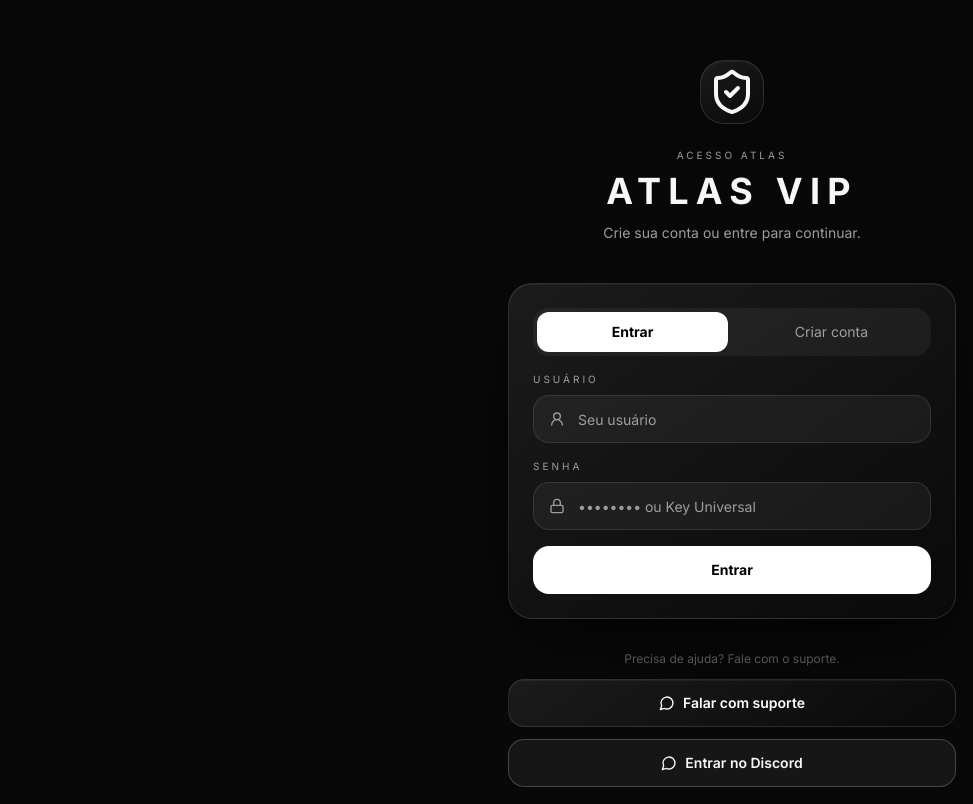
Test: acessos de usuário e ADM › usuário e senha normais usam o login da conta
In the field labelled "Usuário": point(732, 419) [533, 395, 931, 443], type "cliente"
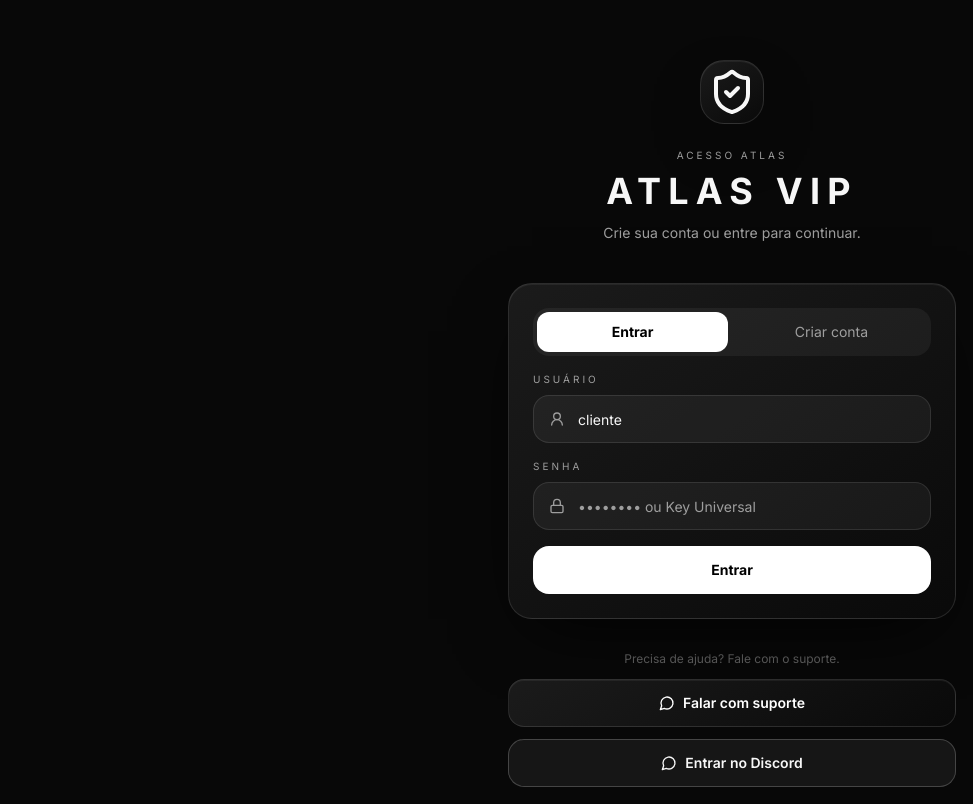
In the password field labelled "Senha": point(732, 506) [533, 482, 931, 530], type "Senha123"
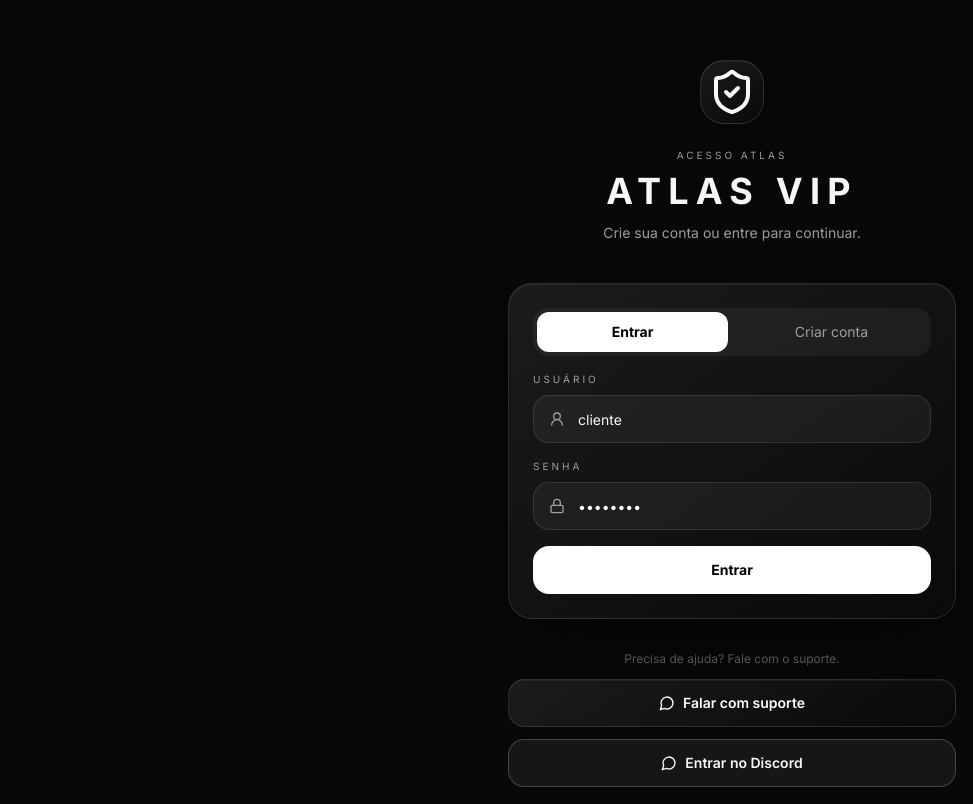
Submit the form labelled "Senha", box [508, 283, 956, 619]
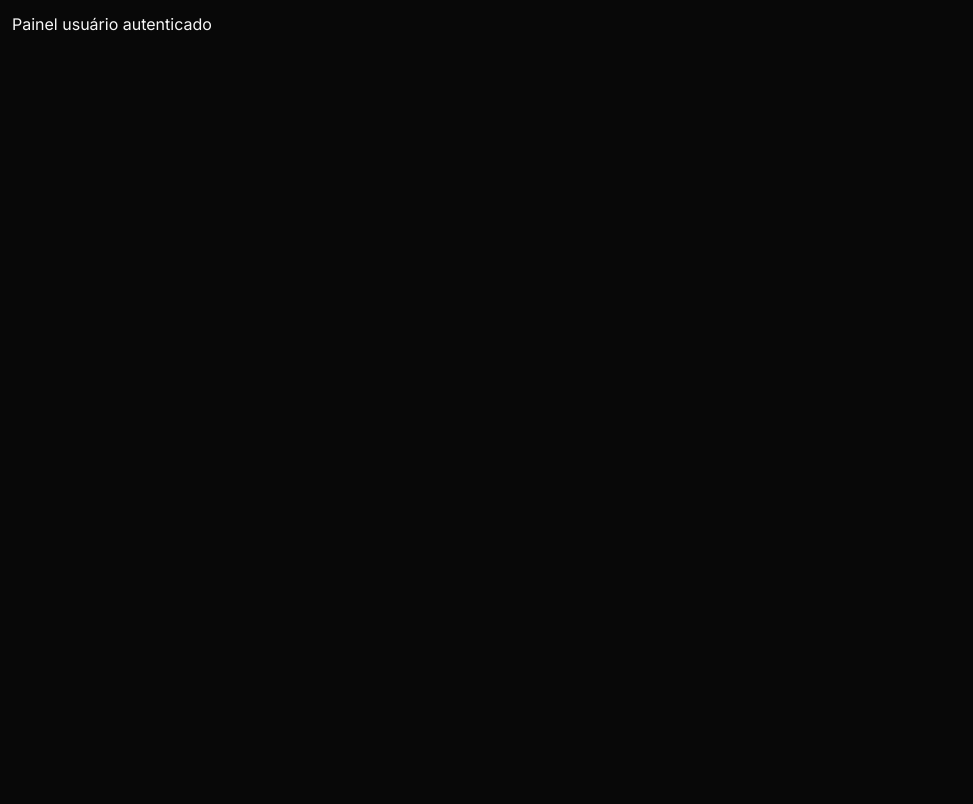
Expected: the text "Painel usuário autenticado" is shown, [12, 14, 212, 34]
